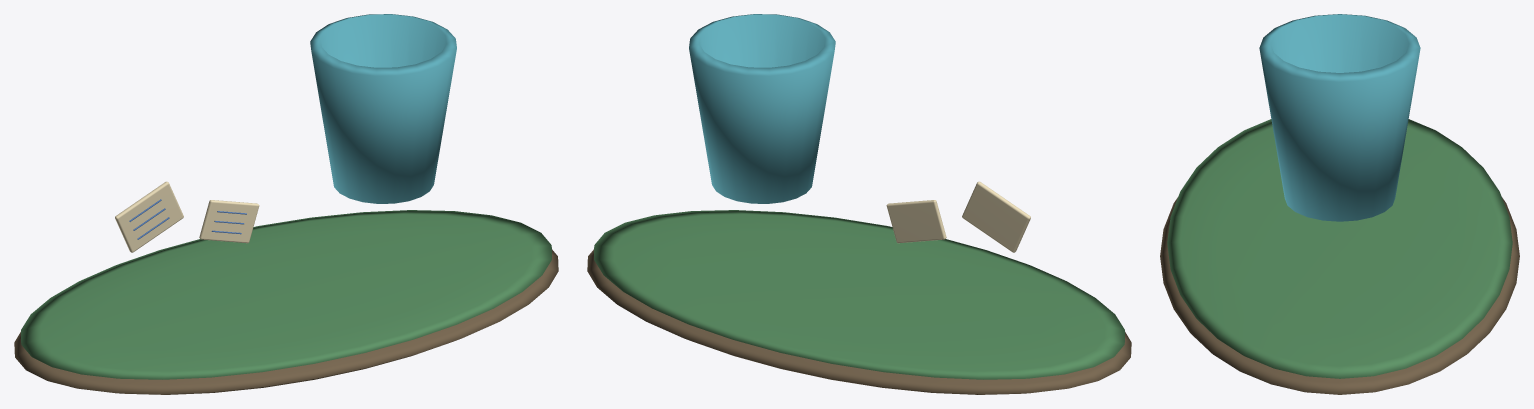
File: rubbish-bin.glb
The picture shows the model from 3 angles, left to right: view 1: azimuth 30°, elevation 25°; view 2: azimuth 150°, elevation 25°; view 3: azimuth 270°, elevation 25°; orthographic projection. The views are drawn at different scales.
Parts seen in each view (by area): view 1: rubbish-bin_surface_01, rubbish-bin_surface_04, rubbish-bin_surface_00, rubbish-bin_surface_02; view 2: rubbish-bin_surface_01, rubbish-bin_surface_04, rubbish-bin_surface_00, rubbish-bin_surface_02; view 3: rubbish-bin_surface_01, rubbish-bin_surface_04, rubbish-bin_surface_00.
Part boxes in pixels (x1=…): rubbish-bin_surface_01: x1=21, y1=210, x2=551, y2=379; rubbish-bin_surface_04: x1=310, y1=14, x2=456, y2=203; rubbish-bin_surface_00: x1=14, y1=249, x2=558, y2=394; rubbish-bin_surface_02: x1=115, y1=181, x2=259, y2=252; rubbish-bin_surface_01: x1=594, y1=210, x2=1124, y2=379; rubbish-bin_surface_04: x1=689, y1=14, x2=835, y2=203; rubbish-bin_surface_00: x1=587, y1=249, x2=1131, y2=394; rubbish-bin_surface_02: x1=886, y1=181, x2=1030, y2=252; rubbish-bin_surface_01: x1=1167, y1=119, x2=1512, y2=378; rubbish-bin_surface_04: x1=1259, y1=14, x2=1420, y2=221; rubbish-bin_surface_00: x1=1160, y1=197, x2=1519, y2=394.
Bounding box in the file's own units: 4.56 × 2.15 × 2.5.
